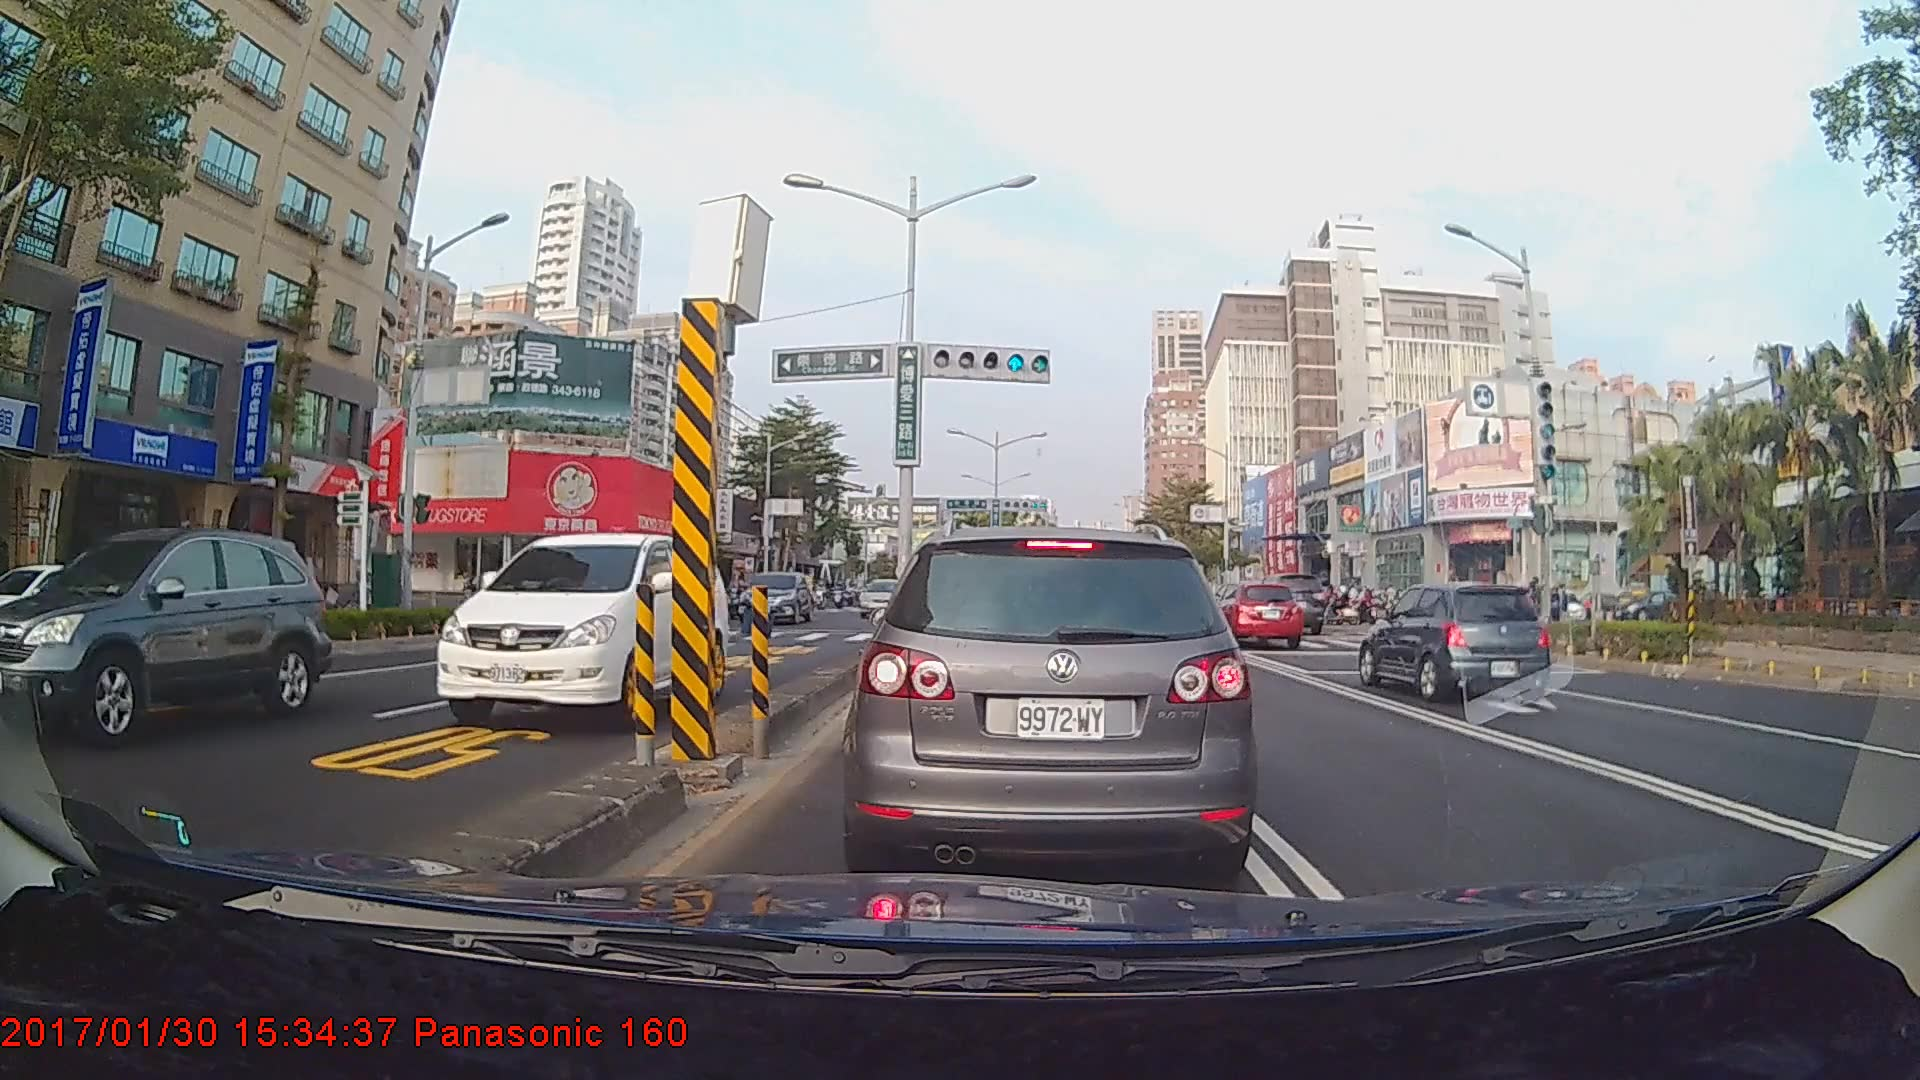vehicle: (855, 522, 1246, 885), (0, 524, 331, 749), (433, 531, 727, 729), (1358, 579, 1555, 702), (1208, 578, 1304, 647), (1242, 571, 1327, 636), (736, 571, 815, 626), (858, 578, 913, 617)
